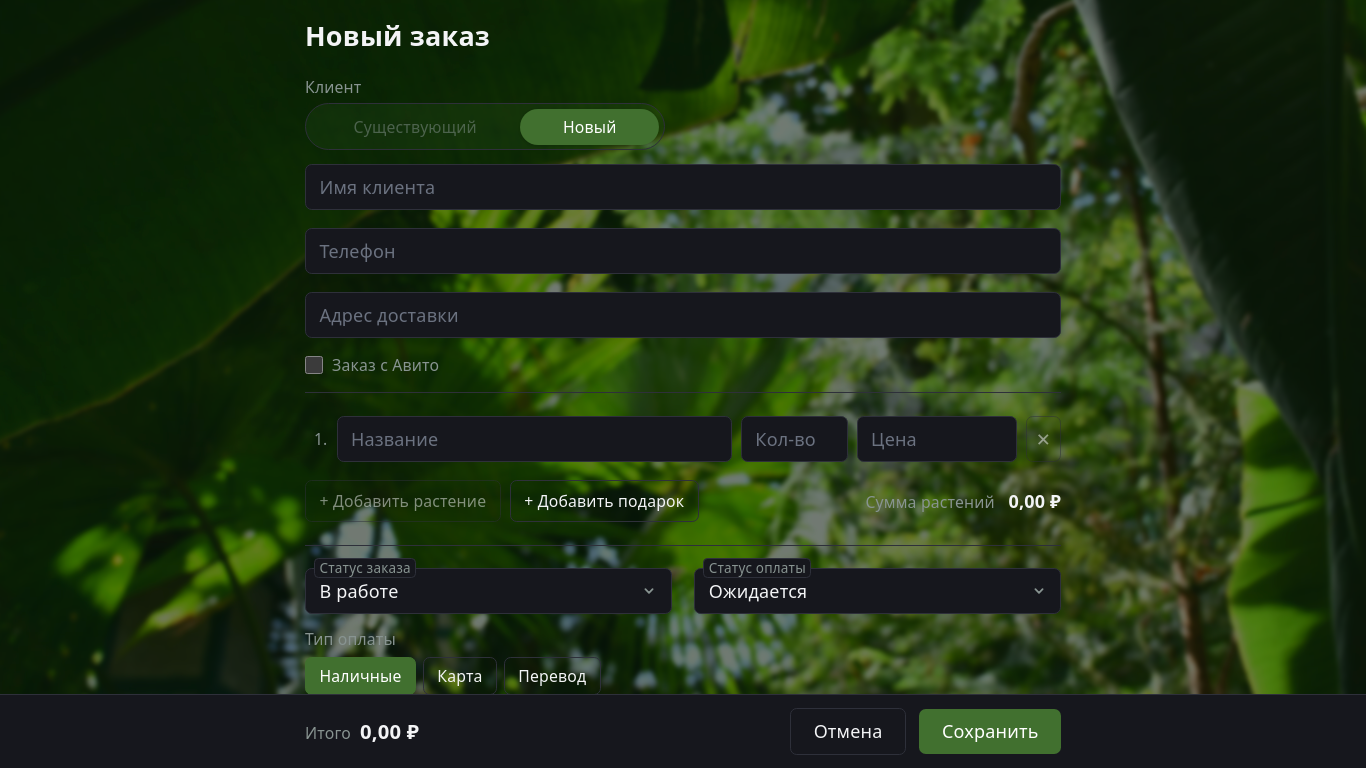
Test: NewOrderPage › suggests the distinct plant names from prior orders and fills the field on pick
The image size is (1366, 768).
Expected: the field labelled "Имя клиента" is shown, [305, 164, 1061, 210]
Click the dropdown labelled "Название" at (534, 439), box [336, 416, 732, 462]
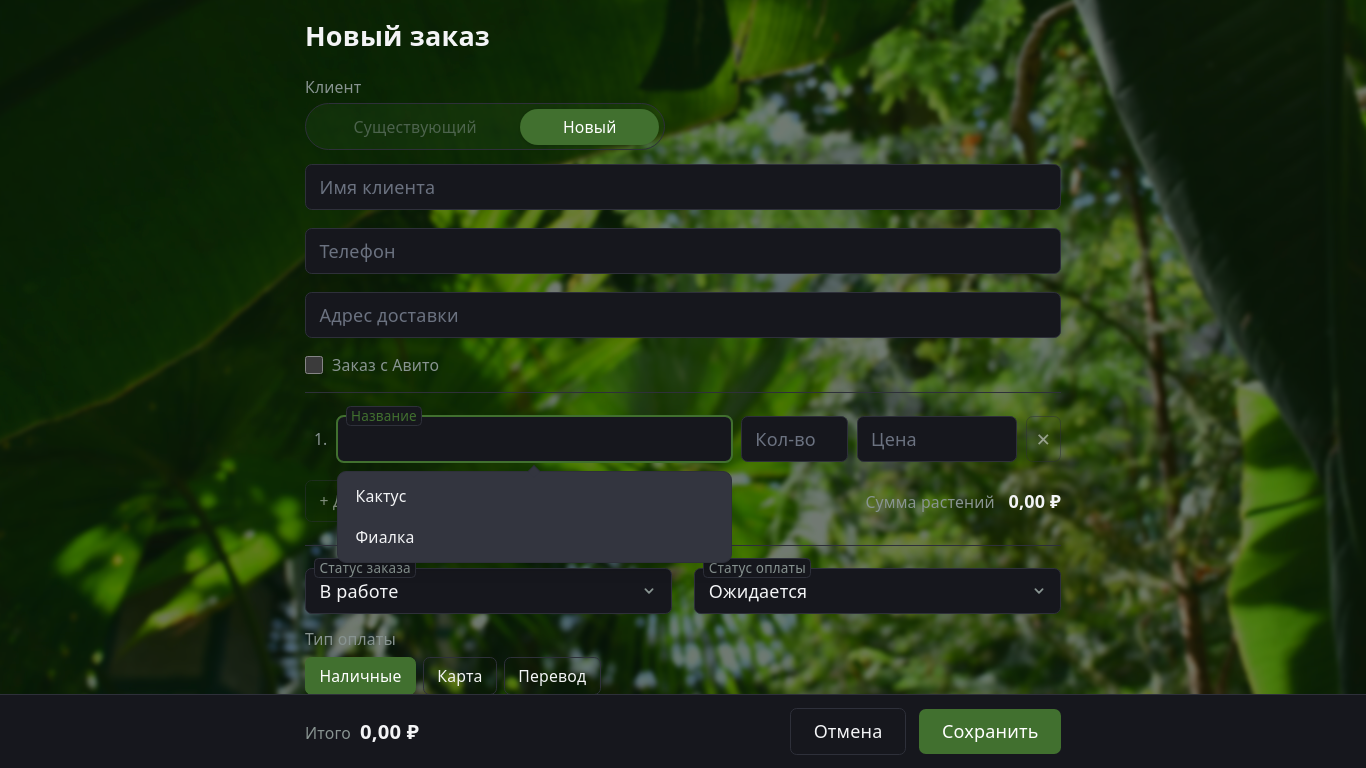
Now the options read "Кактус", "Фиалка", in this order
# Picking a suggestion fills the field and closes the popup.
Press the mouse on the option "Кактус" at (381, 496), box [356, 485, 407, 507]
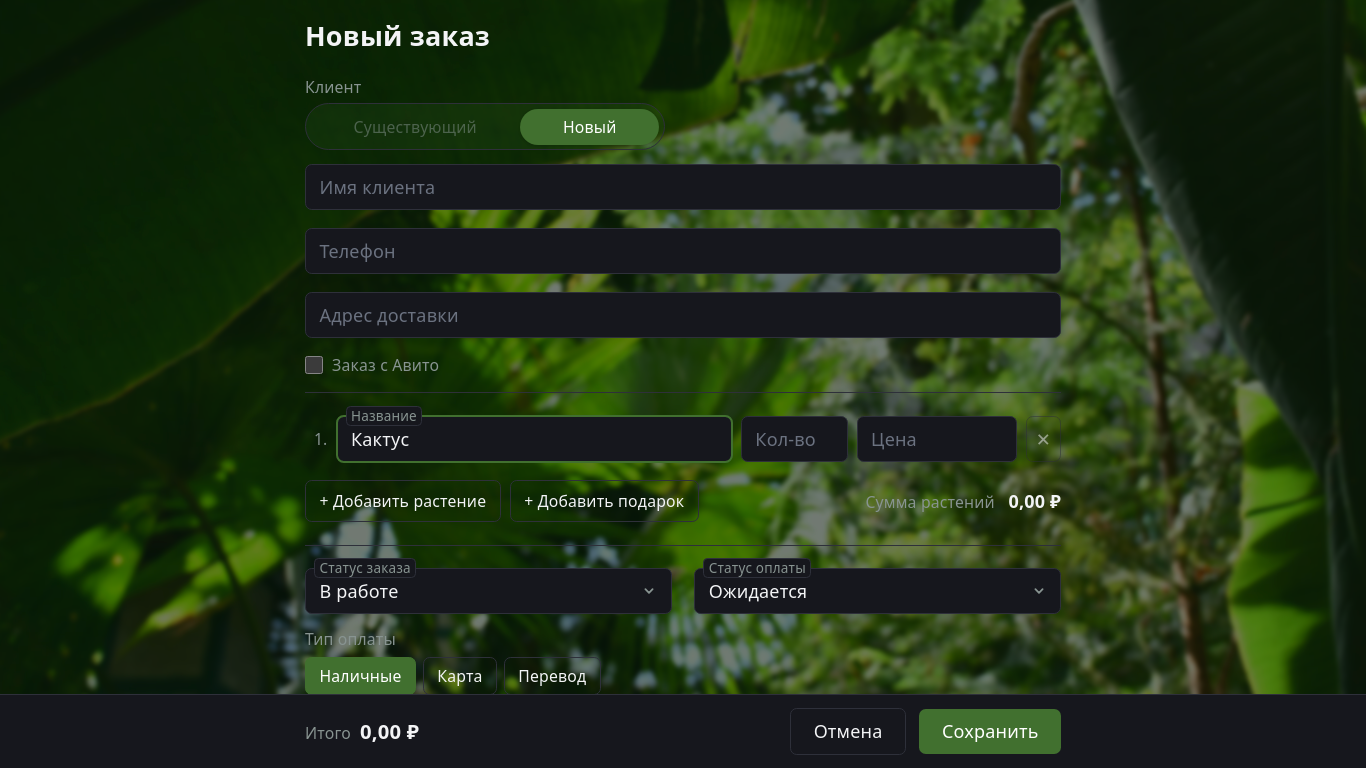
Now the list is gone
